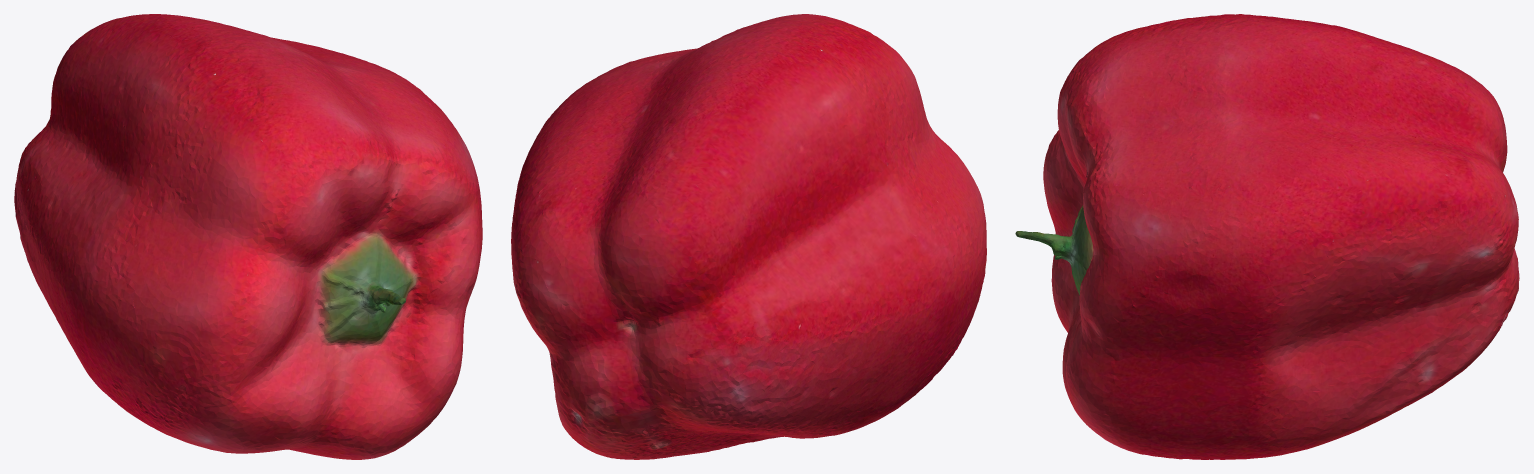
The model's file is pepper.obj.
The picture shows the model from 3 angles, left to right: view 1: azimuth 30°, elevation 25°; view 2: azimuth 150°, elevation 25°; view 3: azimuth 270°, elevation 25°; orthographic projection. The views are drawn at different scales.
Parts seen in each view (by area): view 1: pepper; view 2: pepper; view 3: pepper.
Part boxes in pixels (box(x1,y1,x2,y2)): pepper: box(14, 14, 482, 459); pepper: box(511, 14, 986, 459); pepper: box(1015, 14, 1519, 459).
Bounding box in the file's own units: 0.0809 × 0.083 × 0.0967.
